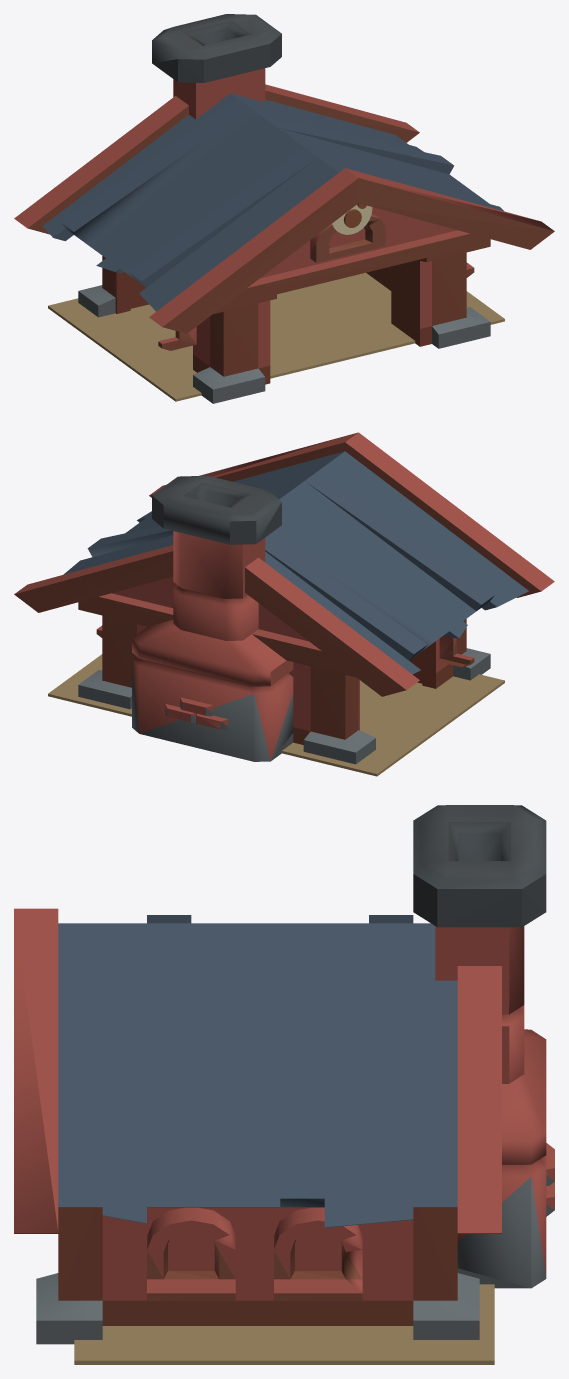
File: barn.glb
3 renders of one model, top to bottom at view 1: azimuth 30°, elevation 25°; view 2: azimuth 150°, elevation 25°; view 3: azimuth 270°, elevation 25°, orthographic. The views are drawn at different scales.
Visible parts, largest first — view 1: roof_barn, body_barn, interior_floor, cat_sign; view 2: roof_barn, body_barn, interior_floor; view 3: roof_barn, body_barn, interior_floor.
Part boxes in pixels (x1,y1,x2,y2): roof_barn: (14,14,554,333); body_barn: (42,145,503,403); interior_floor: (48,272,504,401); cat_sign: (331,204,372,234); roof_barn: (14,432,554,696); body_barn: (63,511,512,764); interior_floor: (48,654,504,776); roof_barn: (14,805,546,1233); body_barn: (36,1029,554,1344); interior_floor: (74,1284,494,1364).
Size of the model in its own units: 328 by 190 by 238.
